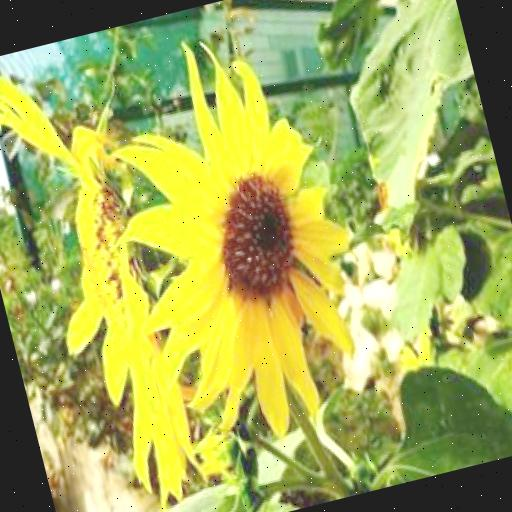sunflower: (71, 16, 392, 466)
